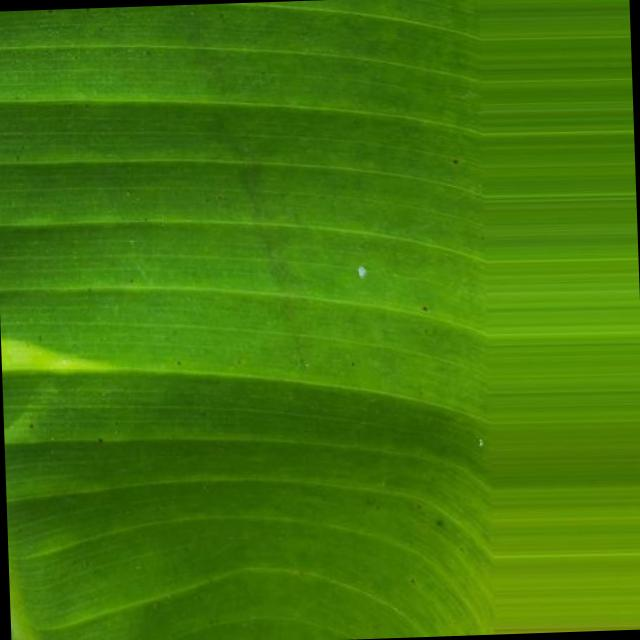Banana_Healthy: (170, 114, 541, 496)
